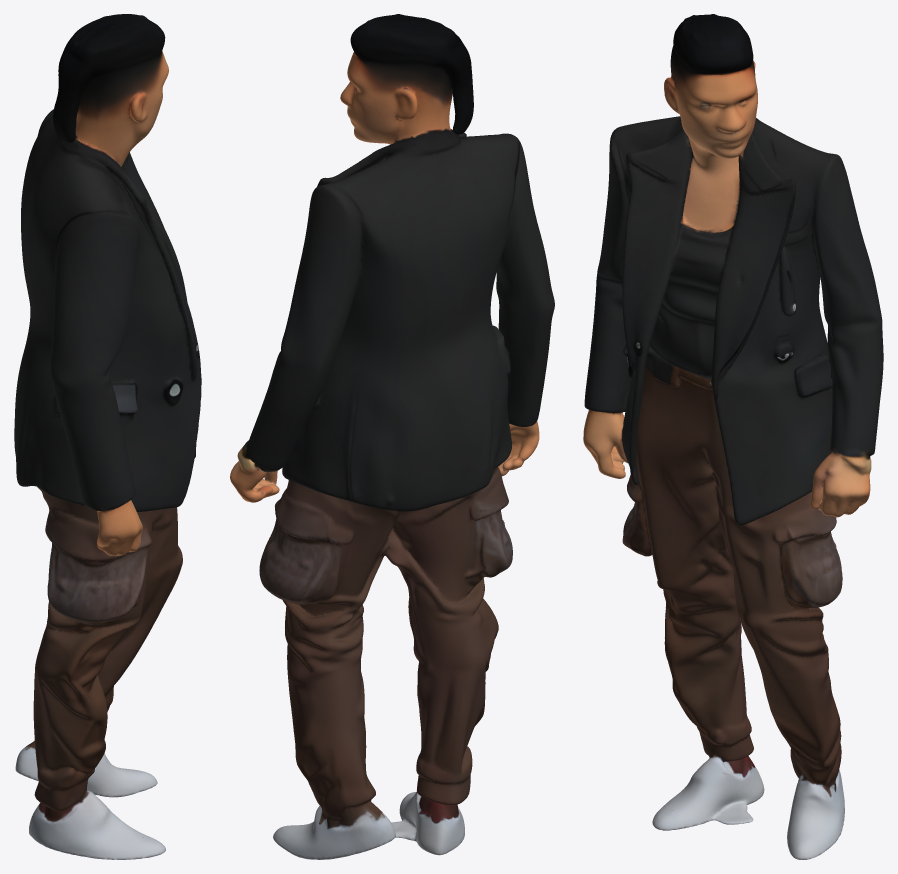
The model's file is avatar_blazer_tryon.glb.
3 views of the same model, side by side, from view 1: azimuth 30°, elevation 25°; view 2: azimuth 150°, elevation 25°; view 3: azimuth 270°, elevation 25° (orthographic). The views are drawn at different scales.
Parts seen in each view (by area): view 1: tripo_node_52dbff00-c11c-4f5e-85de-6530e88f264a; view 2: tripo_node_52dbff00-c11c-4f5e-85de-6530e88f264a; view 3: tripo_node_52dbff00-c11c-4f5e-85de-6530e88f264a.
Part boxes in pixels (box(x1,y1,x2,y2)): tripo_node_52dbff00-c11c-4f5e-85de-6530e88f264a: box(14, 14, 201, 859); tripo_node_52dbff00-c11c-4f5e-85de-6530e88f264a: box(230, 14, 554, 859); tripo_node_52dbff00-c11c-4f5e-85de-6530e88f264a: box(583, 14, 883, 859).
Size of the model in its own units: 0.2718 by 1 by 0.3414.
1 material, 1 textured.
